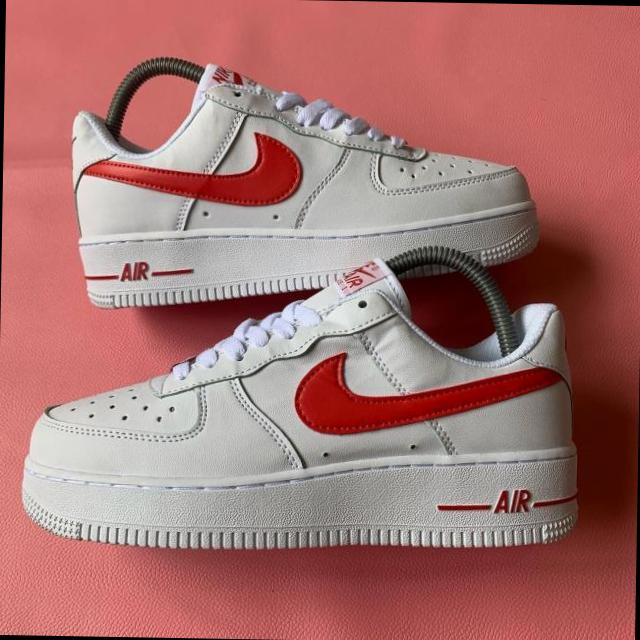nike_original_airforce: (18, 249, 584, 552), (68, 62, 542, 316)
